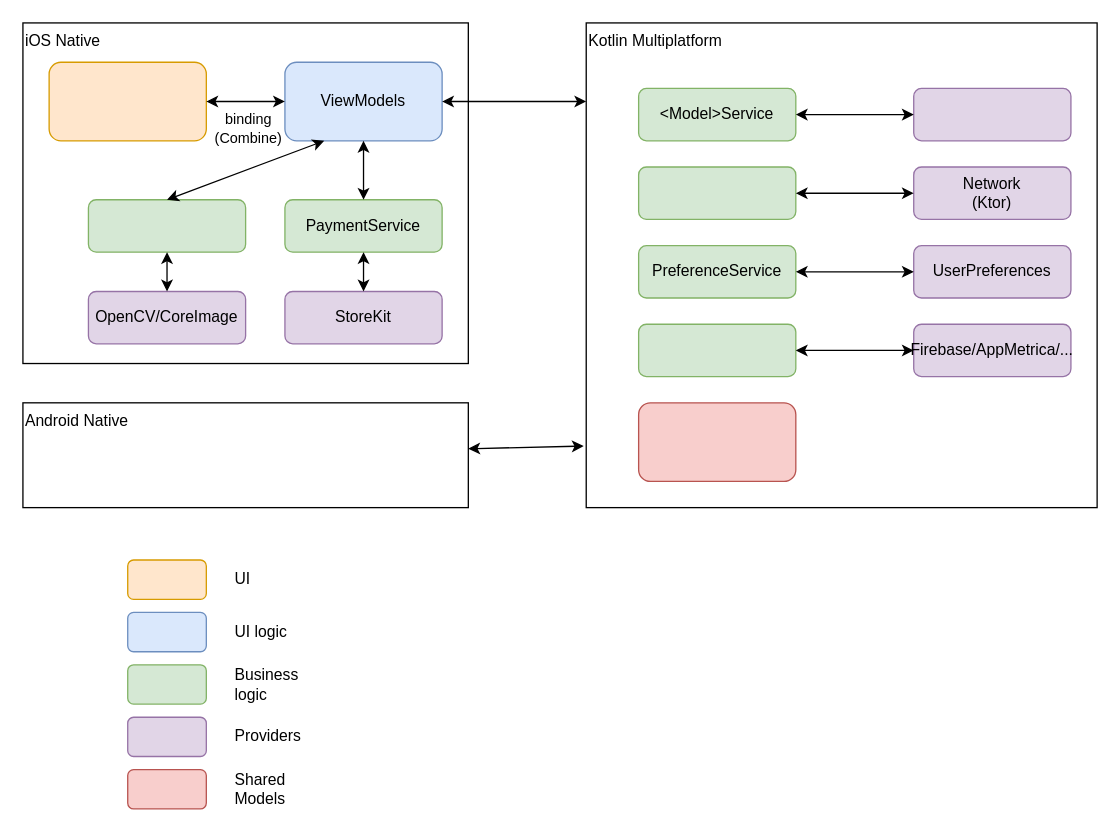
Some shapes in this 1120 by 832 pixel diagram are drawn without their labels. Each missing label, with the centre of its shape:
<Remote>Service: the point at 716,192
AnalyticsService: the point at 716,350
Database (SQLDelight): the point at 991,114
ImageProcessService: the point at 166,225
Models: the point at 716,441
Views: the point at 127,101
